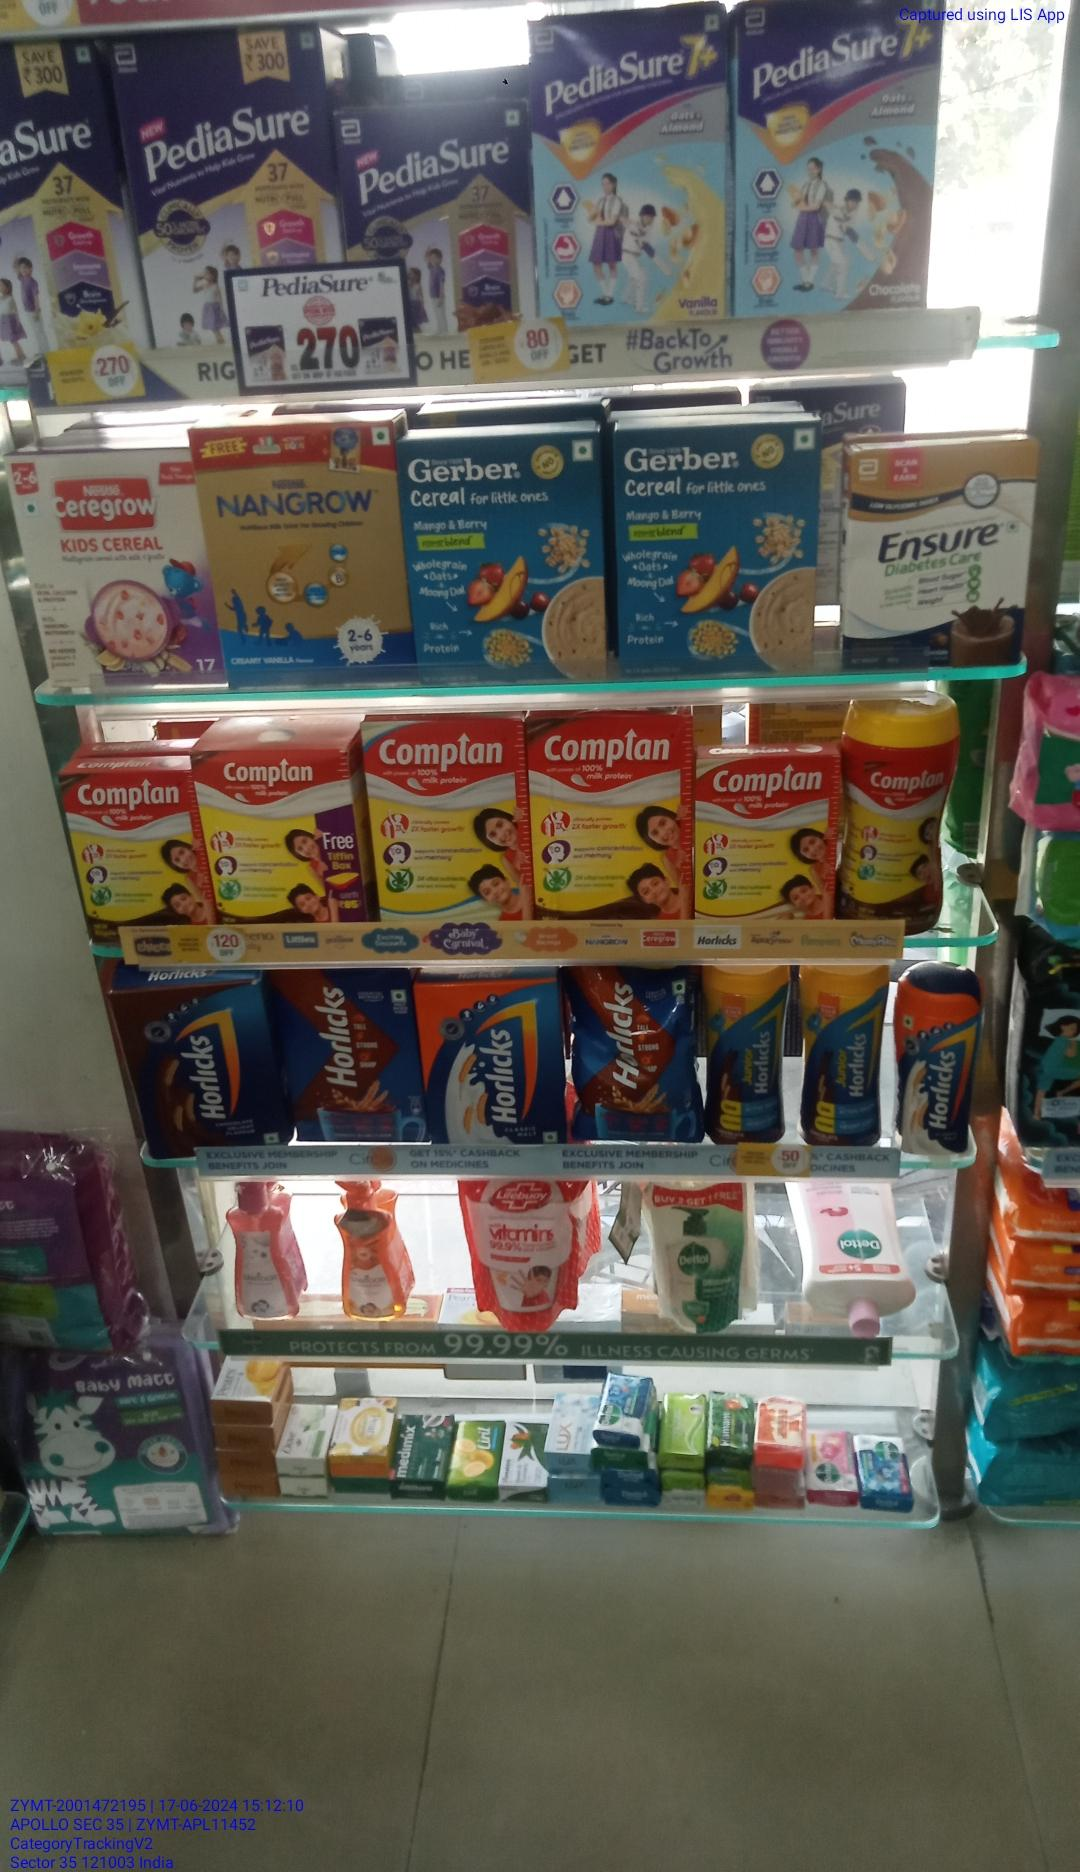COMPLAN_CHOCOLATE_500_GMS_JAR: (843, 694, 953, 918)
COMPLAN_CHOCOLATE_500_GMS_PACK: (534, 720, 693, 919), (202, 750, 356, 921)
COMPLAN_CREAMY_CLASSIC_500_G_PACK: (363, 717, 528, 923)
COMPLAN_KESAR_BADAM_200_GMS_PACK: (694, 753, 834, 924)
HORLICK_CHOCOLATE_500_G_PACK: (282, 967, 415, 1142)
HORLICK_CHOCOLATE_750_G_POUCH: (573, 971, 706, 1135)
HORLICK_CLASSIC_MALT_500_G_JAR: (895, 959, 980, 1160)
HORLICK_CLASSIC_MALT_500_G_PACK: (422, 972, 564, 1144)
